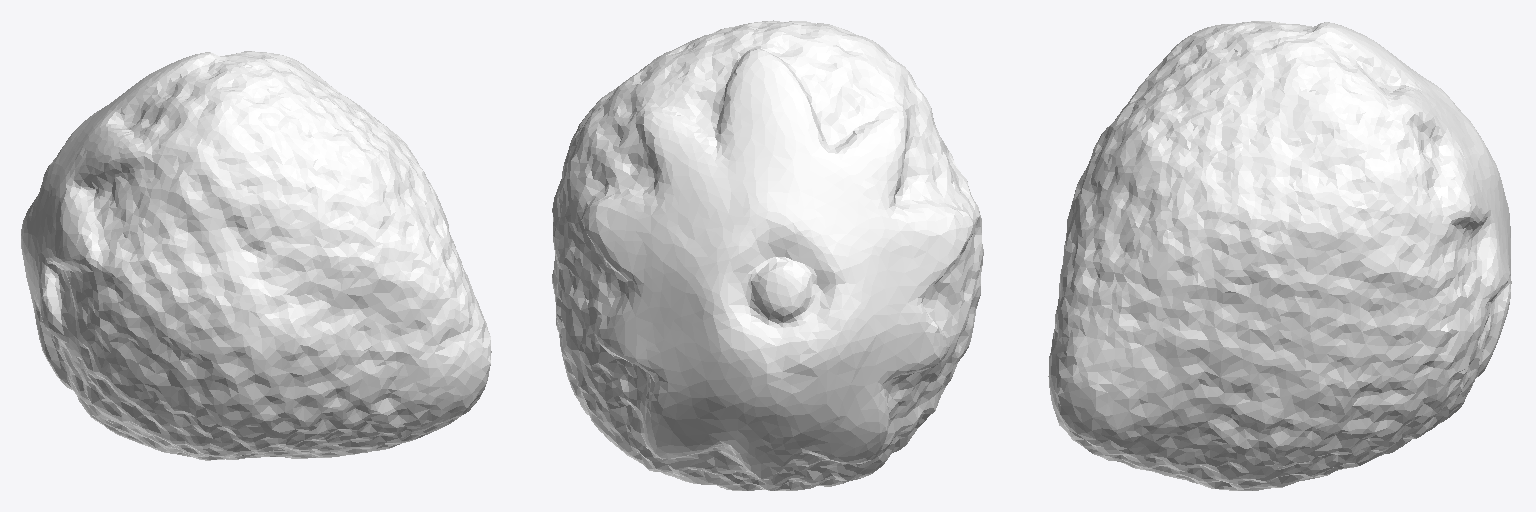
The robot description file, URDF, robot "strawberry":
<robot name="strawberry">
    <link name="base_link">
        <visual>
            <origin xyz="0.0 0.0 -0.0" rpy="0.0 0.0 0.0" />
            <geometry>
                <mesh filename="strawberry/textured.obj" scale="1 1 1" />
            </geometry>
            <material name="texture">
                <color rgba="1.0 1.0 1.0 1.0" />
            </material>
        </visual>
        <collision>
            <origin xyz="0.0 0.0 -0.0" rpy="0.0 0.0 0.0" />
            <geometry>
                <mesh filename="strawberry/textured_coacd_0.stl" scale="1 1 1" />
            </geometry>
        </collision>
        <collision>
            <origin xyz="0.0 0.0 -0.0" rpy="0.0 0.0 0.0" />
            <geometry>
                <mesh filename="strawberry/textured_coacd_1.stl" scale="1 1 1" />
            </geometry>
        </collision>
        <collision>
            <origin xyz="0.0 0.0 -0.0" rpy="0.0 0.0 0.0" />
            <geometry>
                <mesh filename="strawberry/textured_coacd_2.stl" scale="1 1 1" />
            </geometry>
        </collision>
        <collision>
            <origin xyz="0.0 0.0 -0.0" rpy="0.0 0.0 0.0" />
            <geometry>
                <mesh filename="strawberry/textured_coacd_3.stl" scale="1 1 1" />
            </geometry>
        </collision>
        <collision>
            <origin xyz="0.0 0.0 -0.0" rpy="0.0 0.0 0.0" />
            <geometry>
                <mesh filename="strawberry/textured_coacd_4.stl" scale="1 1 1" />
            </geometry>
        </collision>
        <inertial>
            <mass value="0.018" />
            <inertia ixx="1e-3" ixy="0.0" ixz="0.0" iyy="1e-3" iyz="0.0" izz="1e-3" />
        </inertial>
    </link>
</robot>

--- Facts derived from the render (not from the file) ---
Views: 3 orthographic renders of the robot side by side, from view 1: azimuth 30°, elevation 25°; view 2: azimuth 150°, elevation 25°; view 3: azimuth 270°, elevation 25°.
Robot: strawberry — 1 links, 0 joints (none); root link base_link; default pose: all joints at 0.
Links seen in each view (by area): view 1: base_link; view 2: base_link; view 3: base_link.
Link boxes in pixels (box(x1,y1,x2,y2)): base_link: box(21, 51, 491, 460); base_link: box(552, 20, 983, 490); base_link: box(1048, 21, 1511, 490).
Bounding box of the posed robot: 0.0428 × 0.0468 × 0.0462 m (x, y, z).
Meshes: 1 distinct files referenced, 1 mesh visuals loaded (1 OBJ).